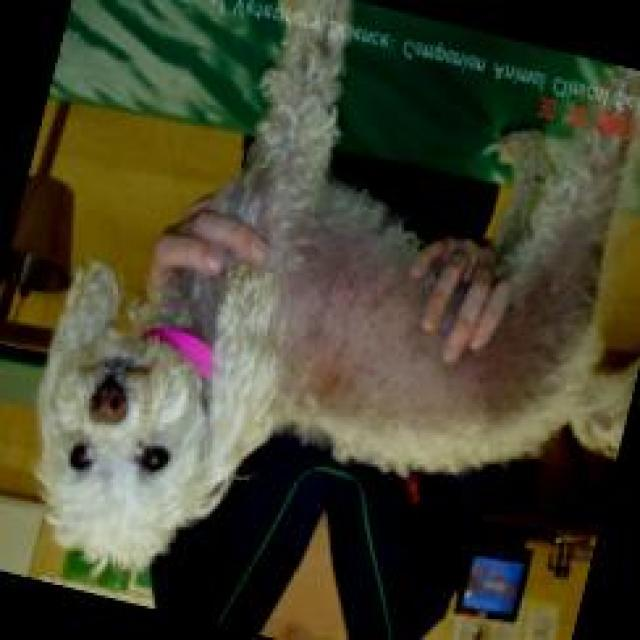fungal infection: (290, 227, 392, 343), (299, 347, 381, 422), (487, 327, 560, 409), (518, 258, 599, 323)
